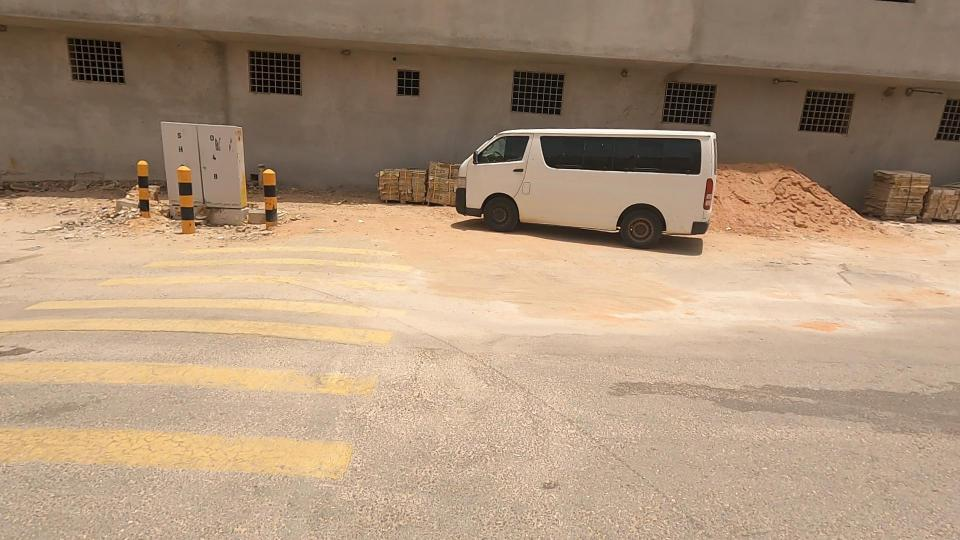SAND_ON_ROAD: (652, 102, 920, 276)
